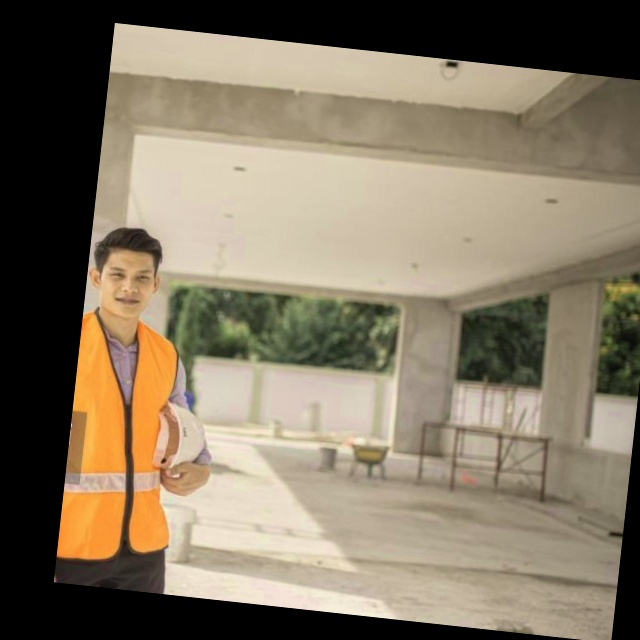Con_Chaleco: (56, 313, 192, 570)
Sin_Casco_Mascarrilla: (85, 221, 170, 322)
